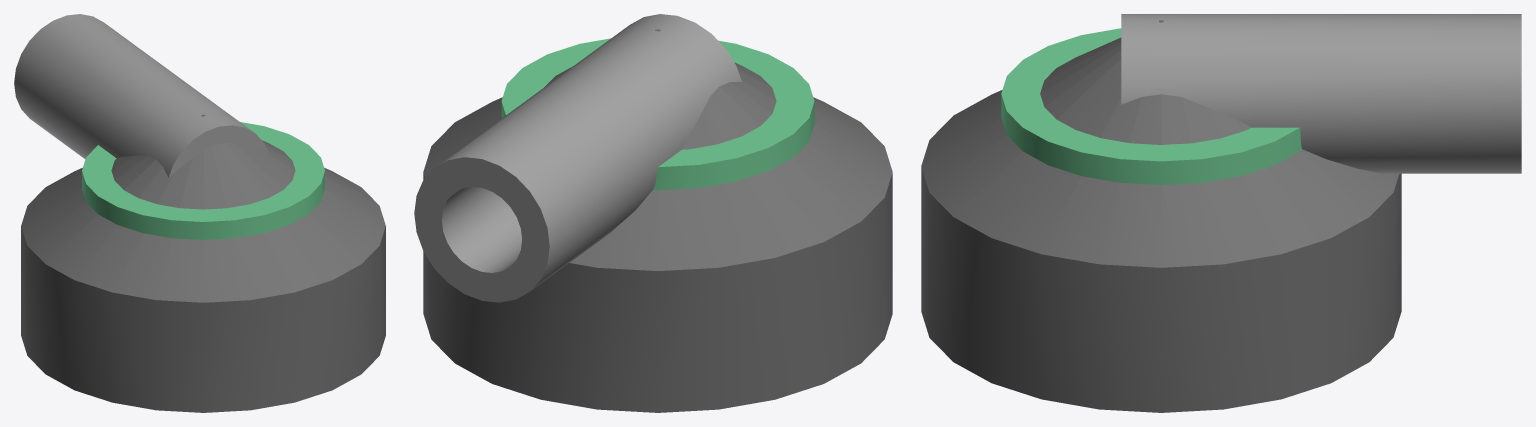
Rendered from turret.fbx.
The picture shows the model from 3 angles, left to right: view 1: azimuth 30°, elevation 25°; view 2: azimuth 150°, elevation 25°; view 3: azimuth 270°, elevation 25°; orthographic projection. The views are drawn at different scales.
Visible parts, largest first — view 1: cylinder_full_4, cylinder_cone_5, cylinder_hollow_7, cylinder_full_6; view 2: cylinder_full_4, cylinder_hollow_7, cylinder_cone_5, cylinder_full_6; view 3: cylinder_full_4, cylinder_hollow_7, cylinder_cone_5, cylinder_full_6.
Boxes of the visible parts, bbox=[...] form: cylinder_full_4: bbox=[21, 226, 385, 412]; cylinder_cone_5: bbox=[21, 114, 385, 302]; cylinder_hollow_7: bbox=[14, 14, 268, 177]; cylinder_full_6: bbox=[82, 122, 324, 239]; cylinder_full_4: bbox=[423, 173, 892, 412]; cylinder_hollow_7: bbox=[414, 14, 741, 302]; cylinder_cone_5: bbox=[423, 29, 892, 270]; cylinder_full_6: bbox=[501, 38, 814, 190]; cylinder_full_4: bbox=[921, 167, 1401, 412]; cylinder_hollow_7: bbox=[1121, 14, 1521, 173]; cylinder_cone_5: bbox=[921, 20, 1398, 267]; cylinder_full_6: bbox=[1001, 28, 1301, 184].
Bounding box in the file's own units: 6 × 4 × 7.5.
